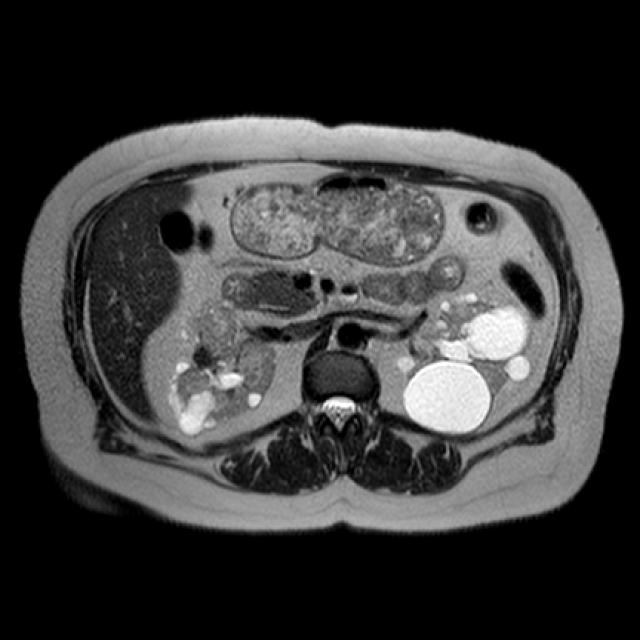sag: (172, 299, 275, 436)
sol: (399, 289, 532, 437)
